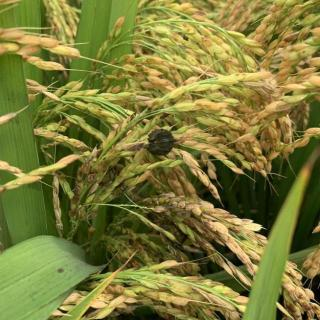Gosong-Palsu: (144, 126, 176, 157)
